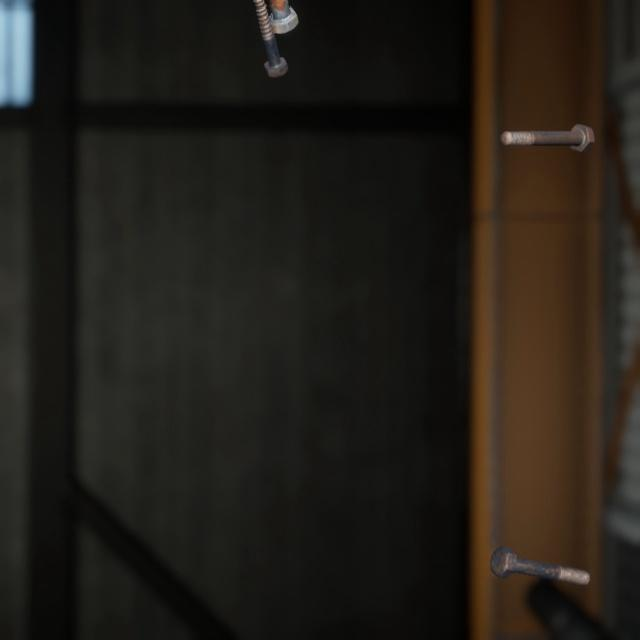bolt: (485, 518, 594, 567), (495, 107, 599, 144), (251, 0, 292, 72), (264, 0, 303, 32)
